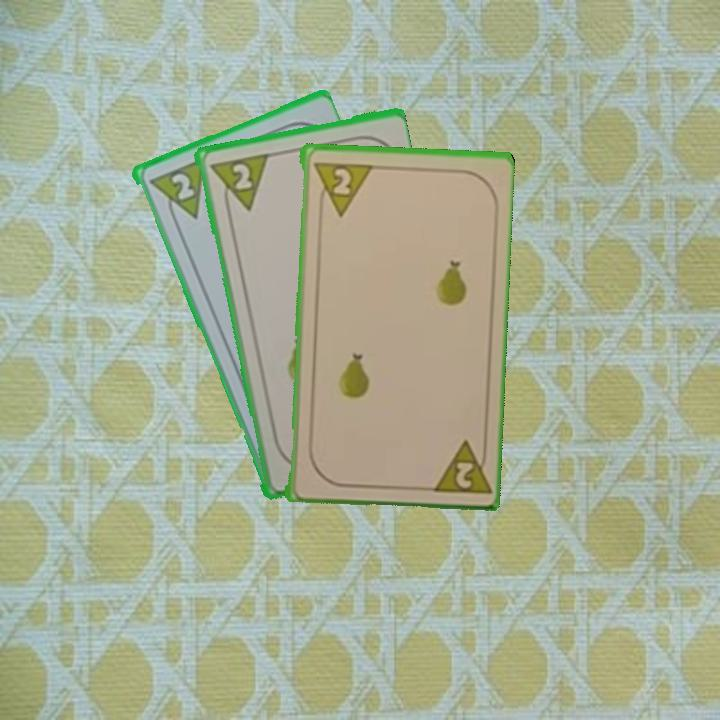2p: (205, 149, 270, 217), (425, 435, 491, 497), (309, 158, 372, 218), (167, 169, 197, 203)
